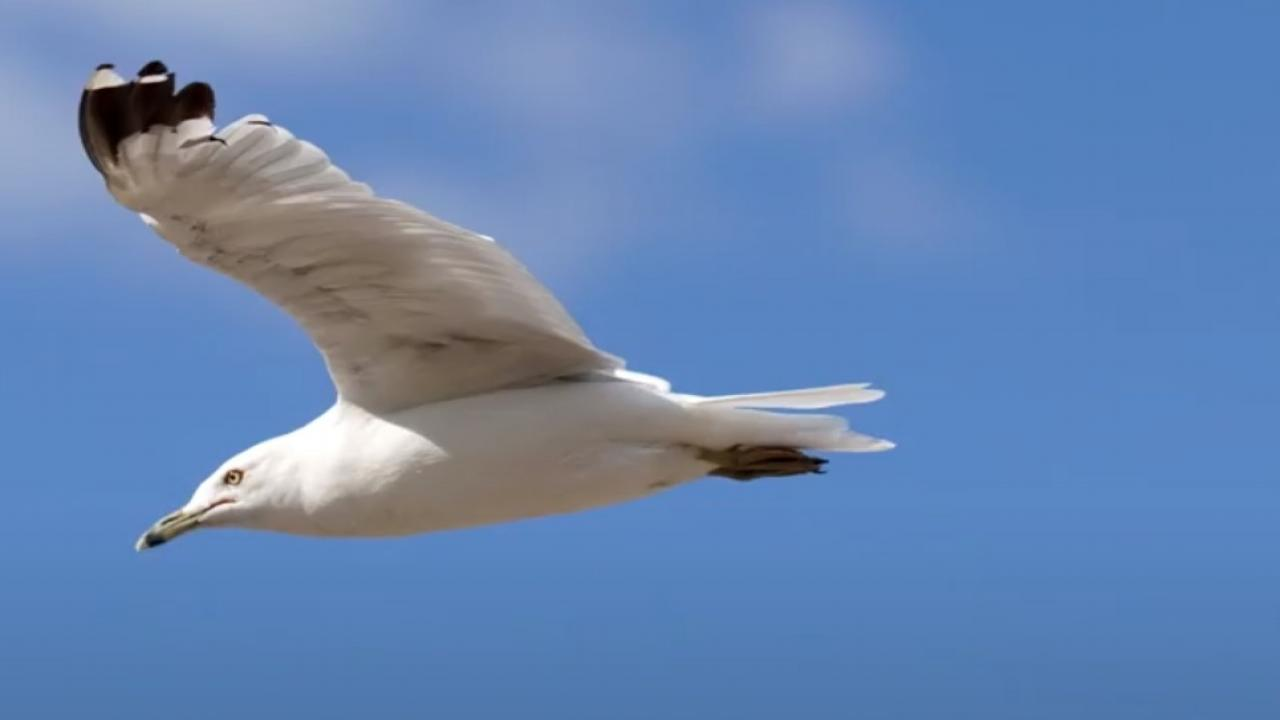Bird: (69, 50, 908, 560)
